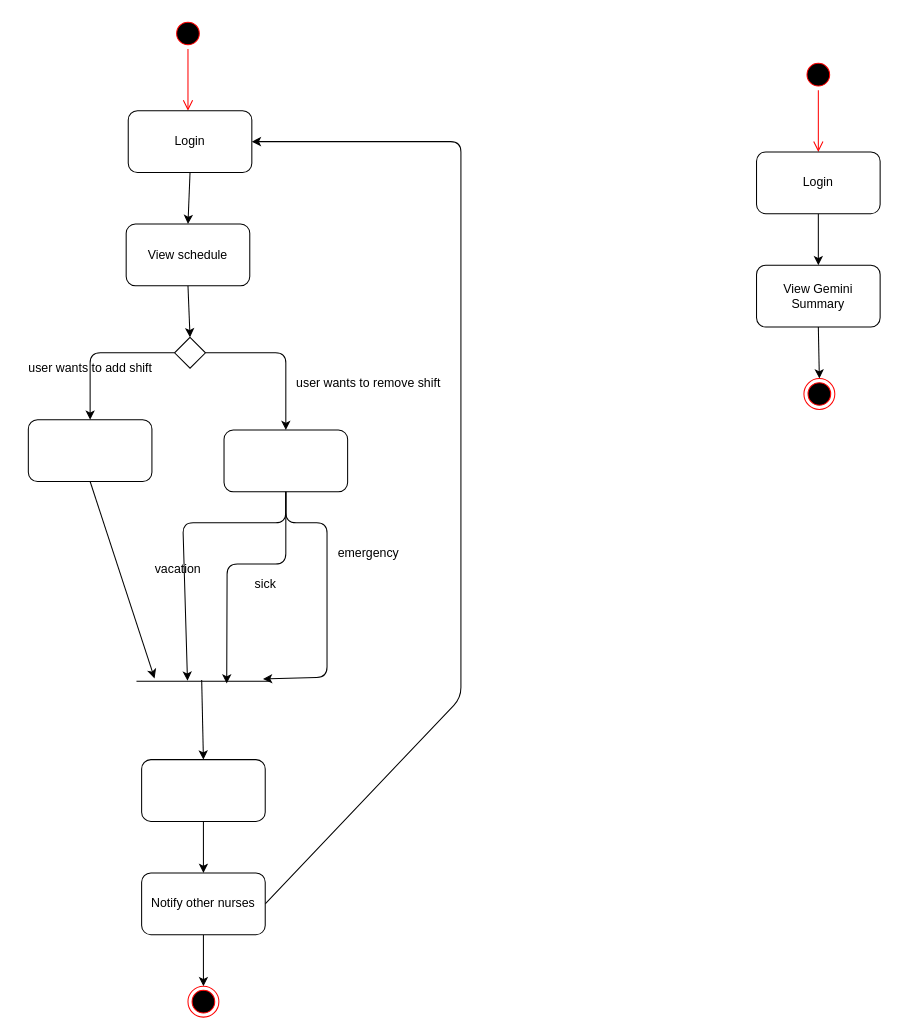
Image size: 898x1035. Some labels were removed from this diagram. Each missing label, with the centre of its shape:
Update Database: pixel 203 790
User adds shift: pixel 89 450
User removes shift: pixel 285 460
